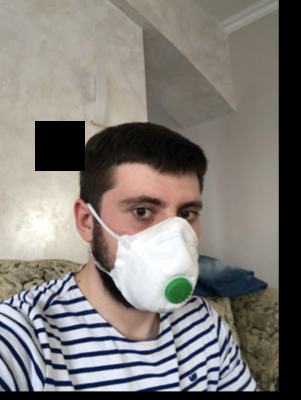with_mask: (109, 182, 199, 314)
